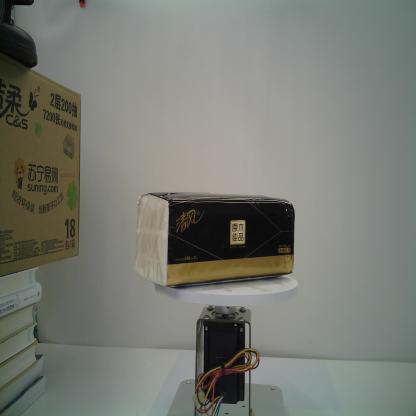Tissue: (135, 188, 296, 290)
